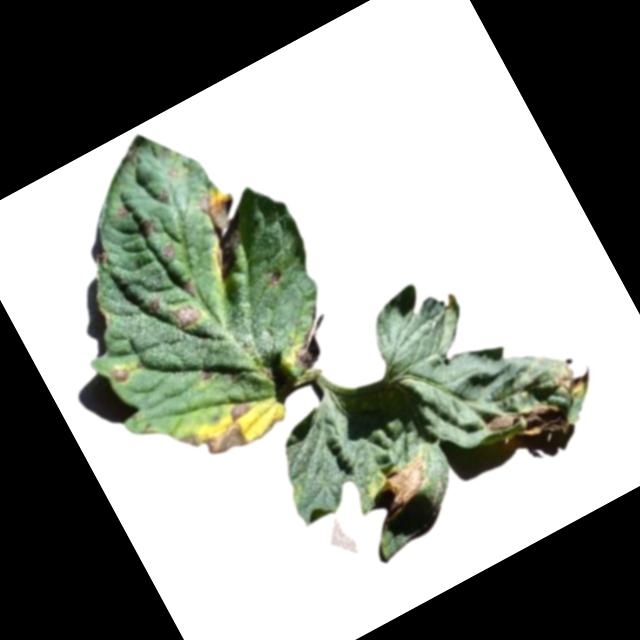Early_blight: (176, 393, 270, 473), (482, 385, 575, 463), (186, 186, 263, 274), (366, 449, 448, 522), (278, 308, 345, 374), (547, 350, 601, 405), (166, 299, 205, 338), (135, 214, 162, 241), (110, 364, 135, 387), (158, 237, 181, 260), (266, 269, 290, 290), (144, 293, 165, 317), (114, 204, 133, 222), (197, 369, 215, 386), (156, 188, 174, 204)
